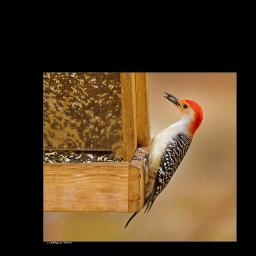Woodpecker: (123, 92, 204, 229)
